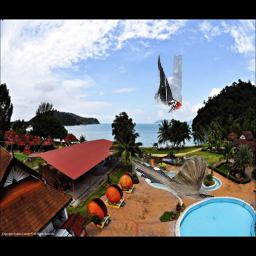Cuckoo: (132, 156, 214, 200)
Woodpecker: (154, 55, 182, 113)
